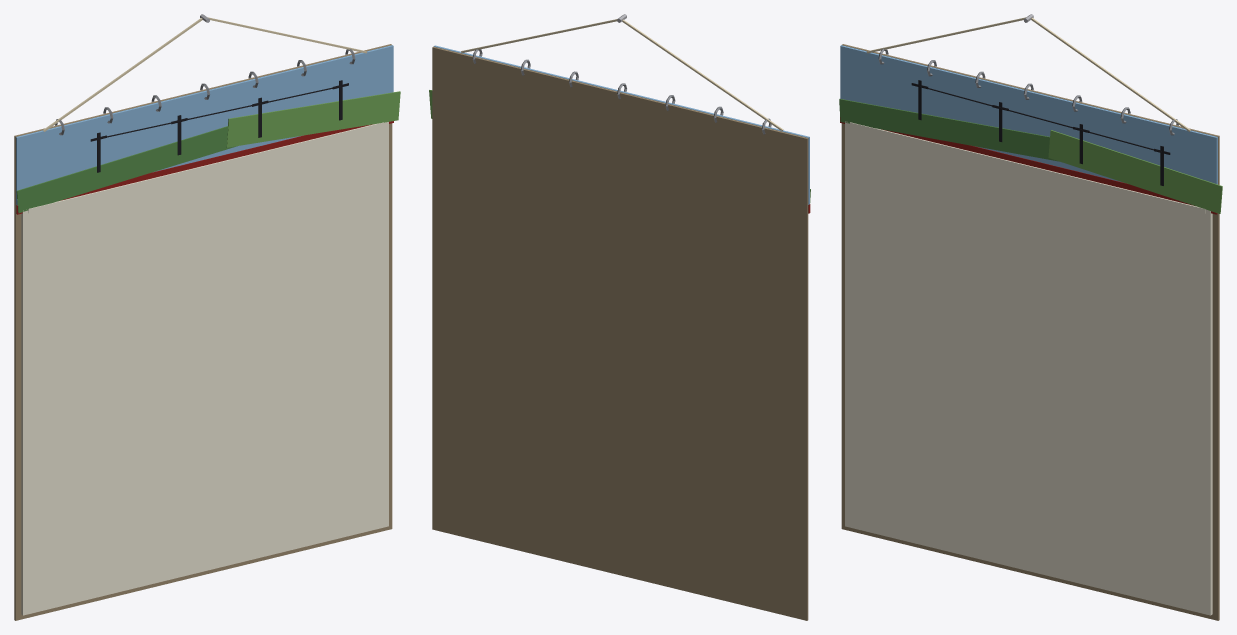
File: room.wall-calendar.glb
3 views of the same model, side by side, from view 1: azimuth 30°, elevation 25°; view 2: azimuth 150°, elevation 25°; view 3: azimuth 330°, elevation 25° (orthographic).
Parts seen in each view (by area): view 1: pad, sky, card, hill, hill2, torn-stub, band, string-l; view 2: card, sky, string-l; view 3: pad, sky, card, hill2, hill, torn-stub, band, string-r.
Boxes of the visible parts, x1,y1,x2,y2 form: pad: [21, 122, 388, 615]; sky: [16, 45, 393, 205]; card: [14, 44, 392, 620]; hill: [16, 126, 237, 213]; hill2: [226, 91, 400, 147]; torn-stub: [28, 122, 383, 213]; band: [16, 121, 393, 214]; string-l: [43, 18, 202, 131]; card: [432, 46, 808, 620]; sky: [434, 45, 809, 204]; string-l: [622, 19, 783, 130]; pad: [845, 121, 1212, 615]; sky: [840, 45, 1217, 184]; card: [841, 44, 1219, 620]; hill2: [1048, 130, 1222, 213]; hill: [839, 99, 1058, 161]; torn-stub: [850, 122, 1205, 213]; band: [840, 117, 1217, 214]; string-r: [1031, 17, 1190, 131].
Bounding box in the file's own units: 0.7123 × 0.994 × 0.029.
